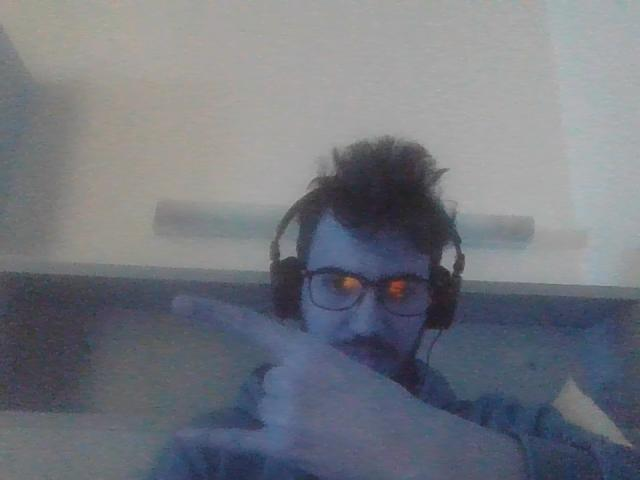iloveyou: (169, 291, 523, 480)
